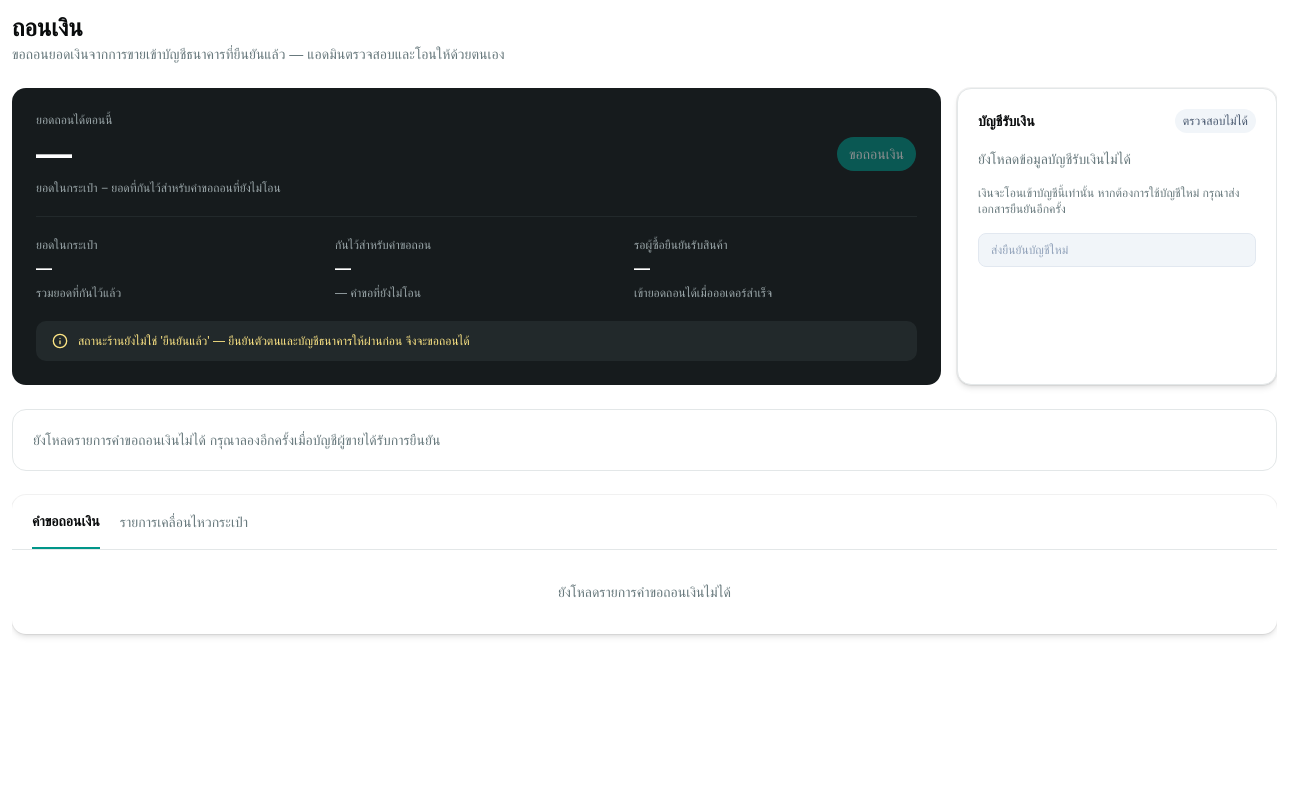
Scenario: seller payout page › does not show zero balances or empty history when finance APIs are unavailable
Expected: the text "ยังโหลดรายการคำขอถอนเงินไม่ได้ กรุณาลองอีกครั้งเมื่อบัญชีผู้ขายได้รับการยืนยัน" is shown, [12,409,1277,471]
Click the button "รายการเคลื่อนไหวกระเป๋า": (184, 522) [120,495,248,549]
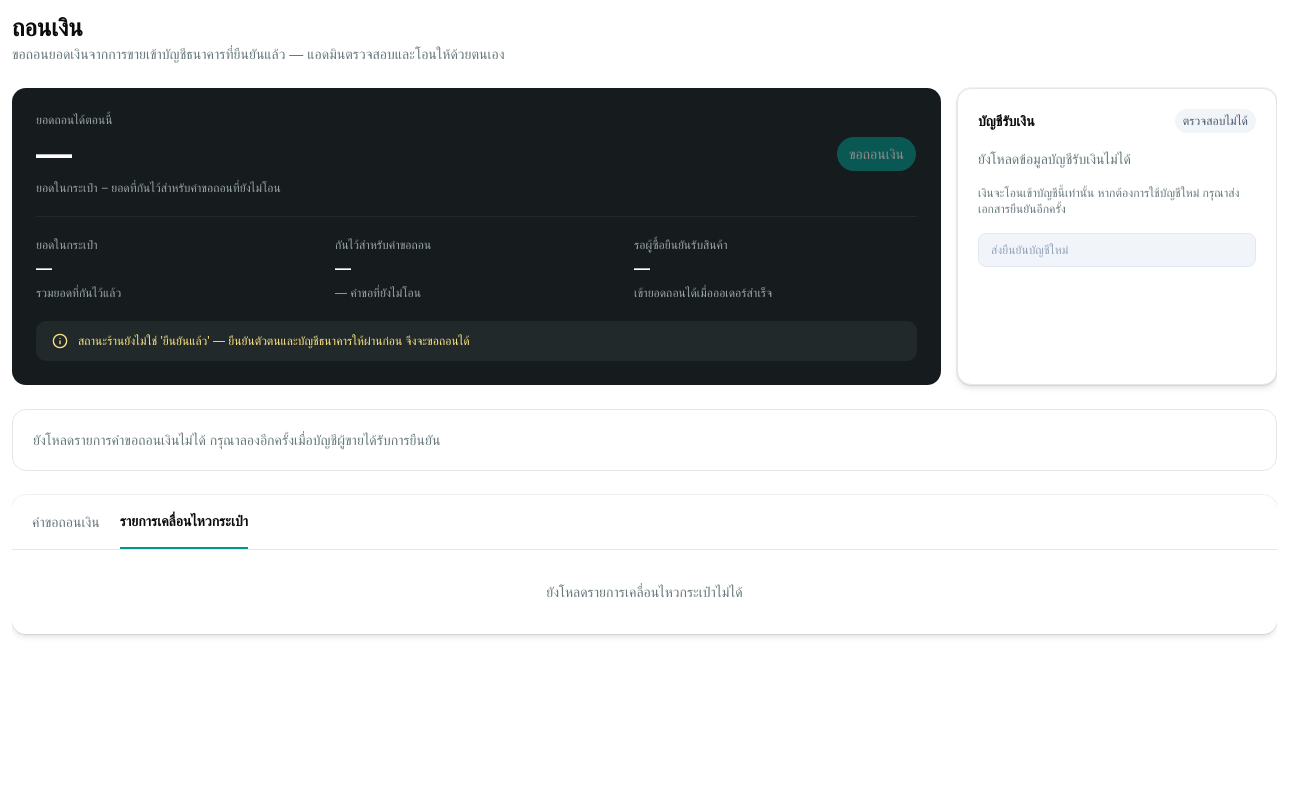
Expected: the text "ยังโหลดรายการเคลื่อนไหวกระเป๋าไม่ได้" is shown, [546,584,743,600]
